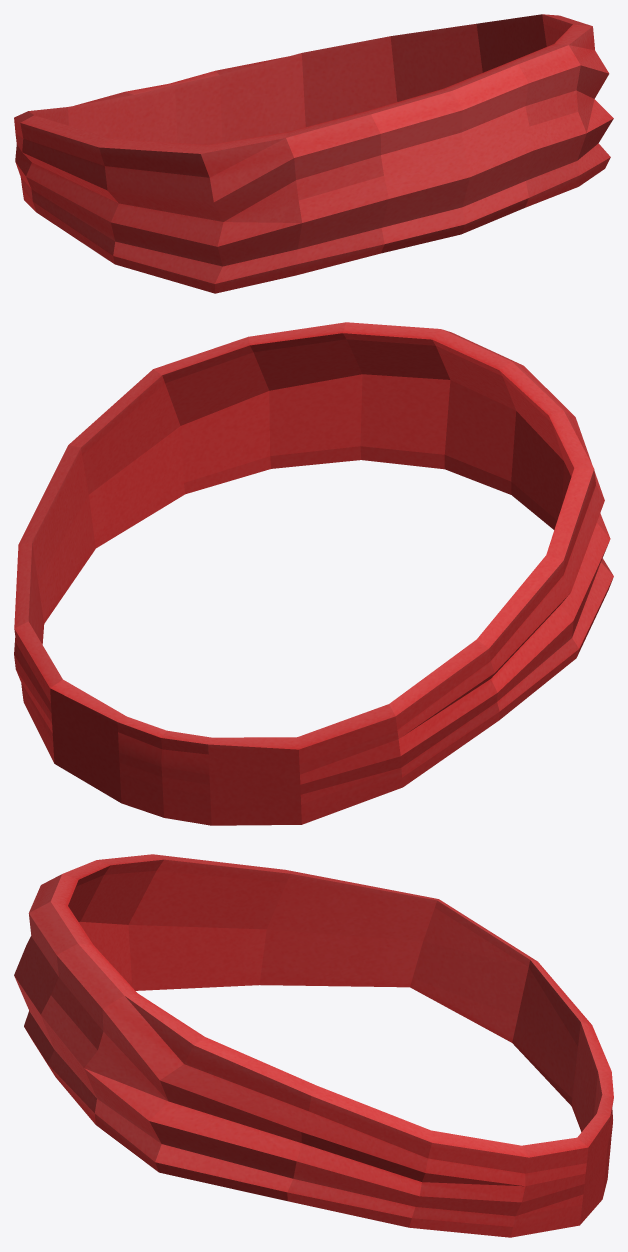
The model's file is SportsHeadbandGirl.fbx.
3 views of the same model, one above another, from view 1: azimuth 30°, elevation 25°; view 2: azimuth 150°, elevation 25°; view 3: azimuth 270°, elevation 25° (orthographic).
Parts seen in each view (by area): view 1: Sports_headband; view 2: Sports_headband; view 3: Sports_headband.
Boxes of the visible parts, left/top/right/bottom form: Sports_headband: left=14, top=14, right=613, bottom=293; Sports_headband: left=14, top=322, right=613, bottom=825; Sports_headband: left=14, top=854, right=613, bottom=1237.
Size of the model in its own units: 61.71 by 34.15 by 66.43.
1 material, 1 textured.
